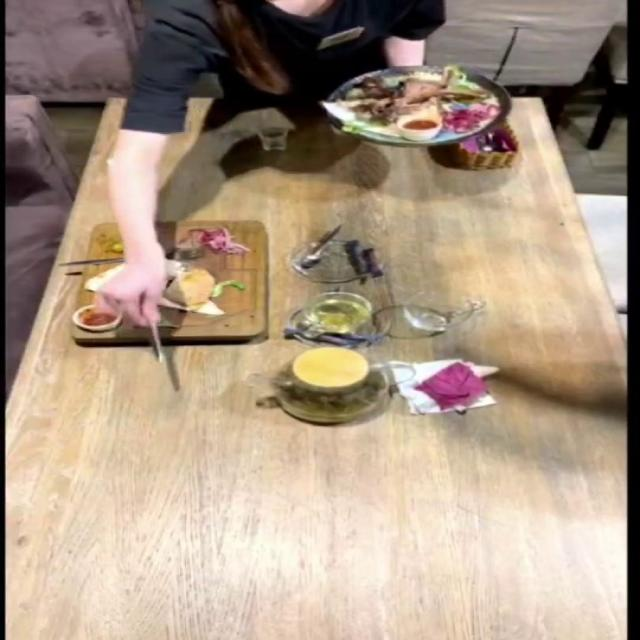meat: (322, 66, 502, 143)
tea: (269, 346, 389, 424)
